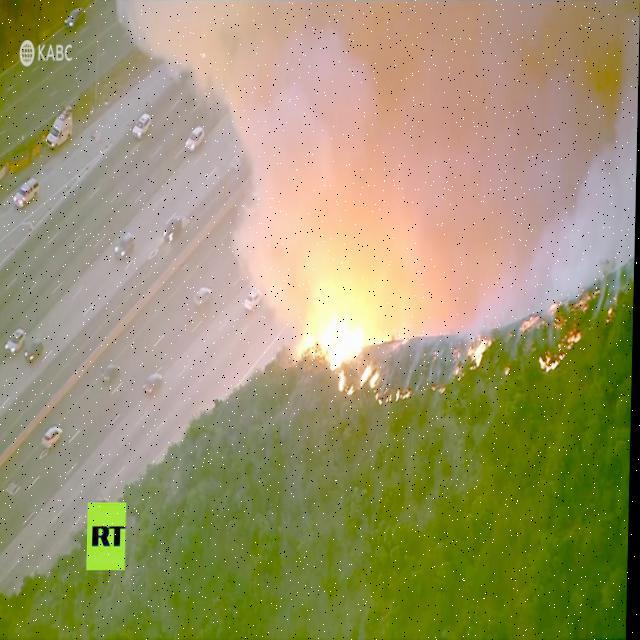Fire: (299, 320, 370, 370), (338, 366, 414, 406), (540, 328, 584, 372), (467, 334, 492, 374), (522, 311, 540, 332)
